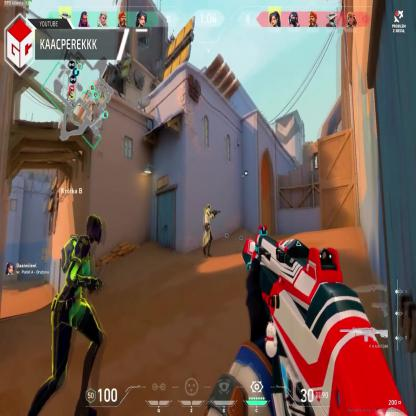enemy: (28, 208, 104, 416), (202, 204, 214, 258)
enemy_head: (86, 210, 101, 244)
